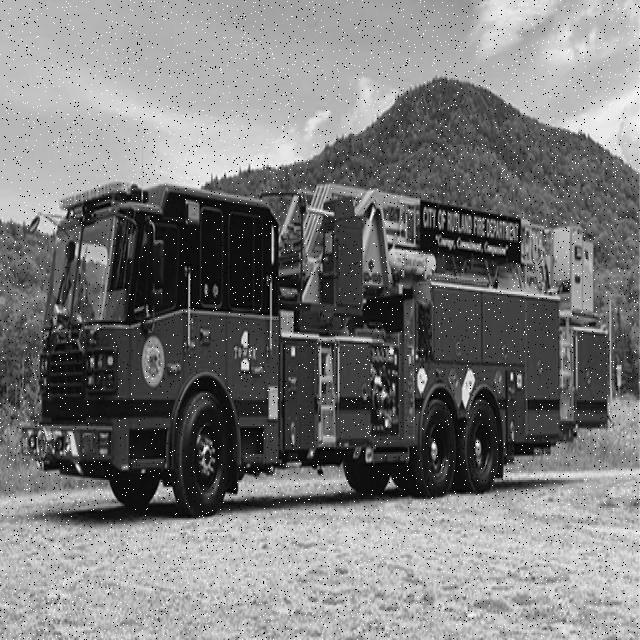Fire Truck: (21, 180, 610, 519)
